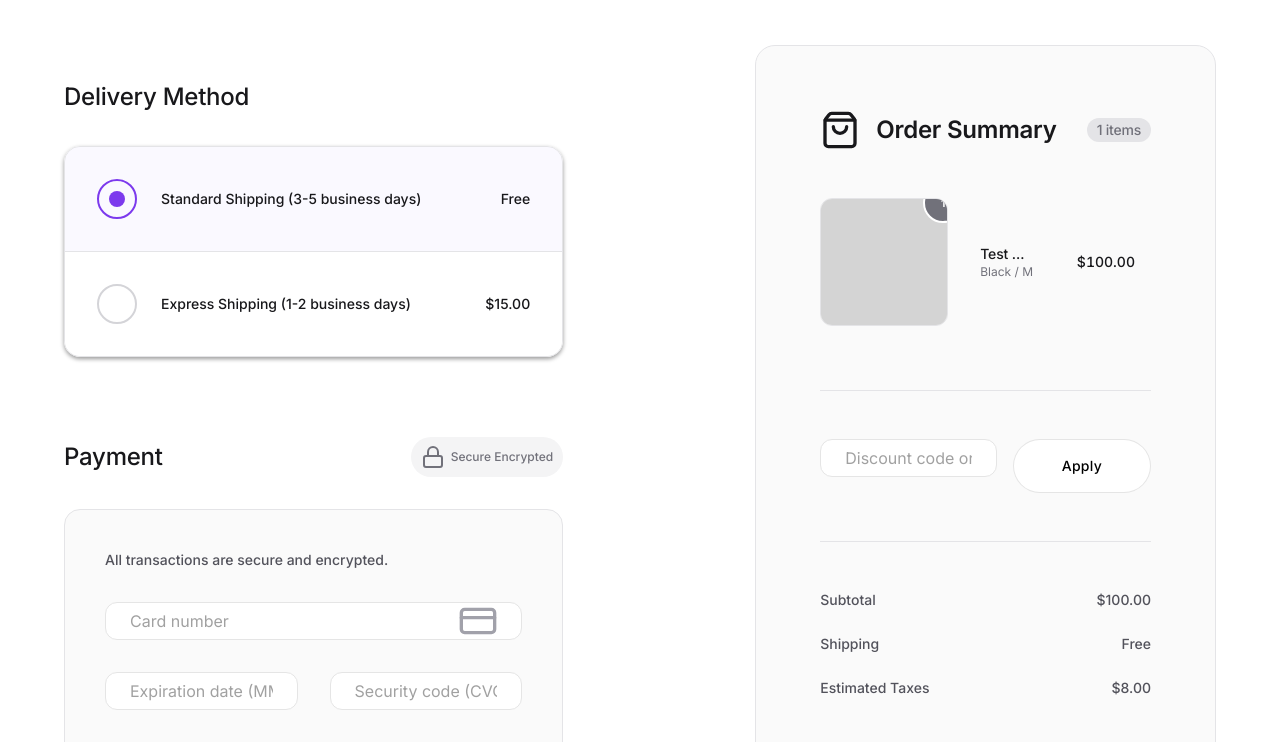
Scenario: Checkout Component › handles shipping option changes
(page scrolled)
// Change to Express Shipping ($15)
What coordinates should you click on to do the following:
click the radio button showing "express"
I would click on:
 (314, 304)
Its box is [65,252,562,356].
(page scrolled)
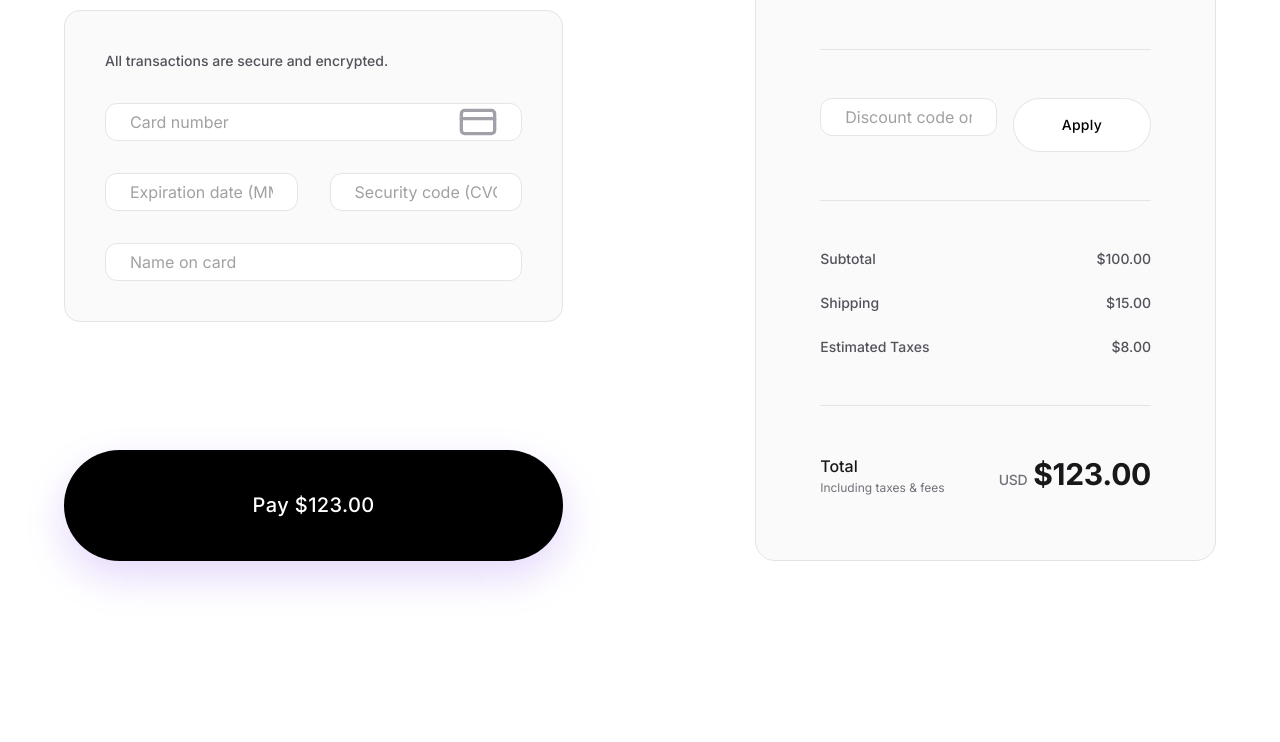
Expected: the button "Pay $123.00" is shown, [64,450,563,561]
